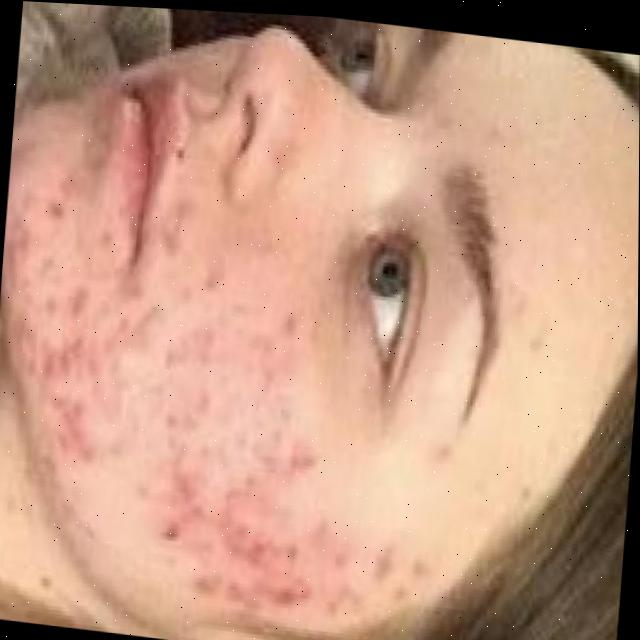Acne: (116, 346, 348, 640)
